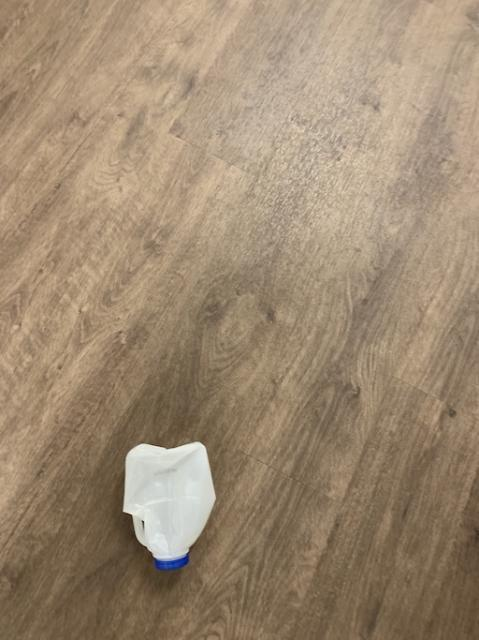plastic: (123, 441, 214, 569)
